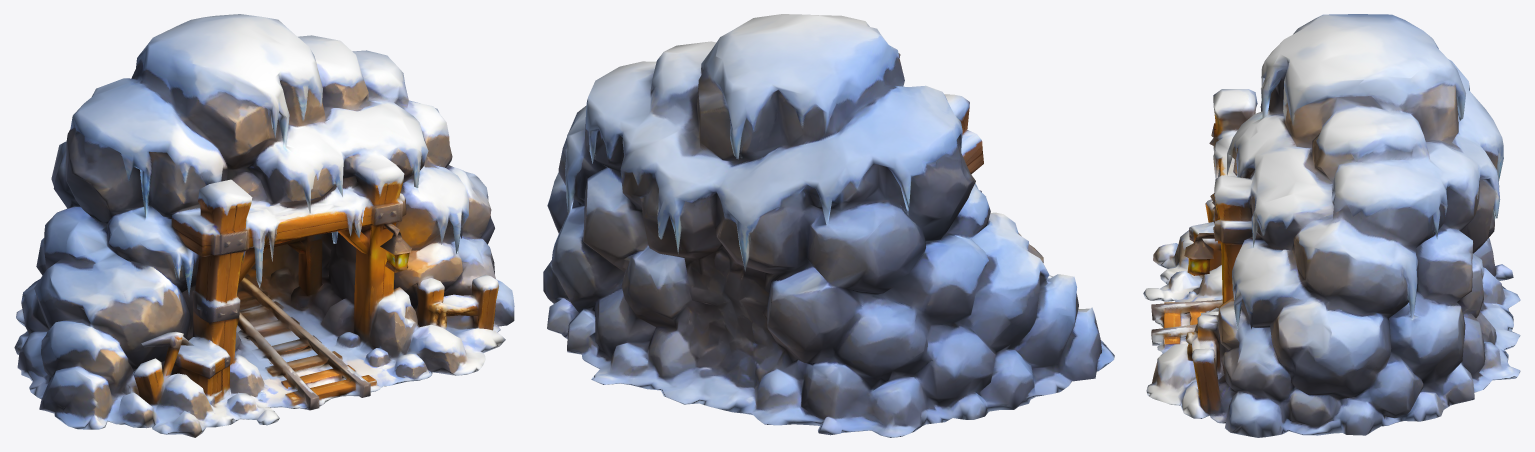
Rendered from snowy mine tunnel 3d model.glb.
3 views of the same model, side by side, from view 1: azimuth 30°, elevation 25°; view 2: azimuth 150°, elevation 25°; view 3: azimuth 270°, elevation 25° (orthographic). The views are drawn at different scales.
Parts seen in each view (by area): view 1: tripo_node_3ba66a74-55c3-4333-a870-c1e684ce19ab; view 2: tripo_node_3ba66a74-55c3-4333-a870-c1e684ce19ab; view 3: tripo_node_3ba66a74-55c3-4333-a870-c1e684ce19ab.
Boxes of the visible parts, bbox=[...] form: tripo_node_3ba66a74-55c3-4333-a870-c1e684ce19ab: bbox=[14, 14, 514, 437]; tripo_node_3ba66a74-55c3-4333-a870-c1e684ce19ab: bbox=[543, 14, 1114, 437]; tripo_node_3ba66a74-55c3-4333-a870-c1e684ce19ab: bbox=[1143, 14, 1520, 437].
Bounding box in the file's own units: 1 × 0.6109 × 0.7014.
Materials: 1 (1 with a texture image).
